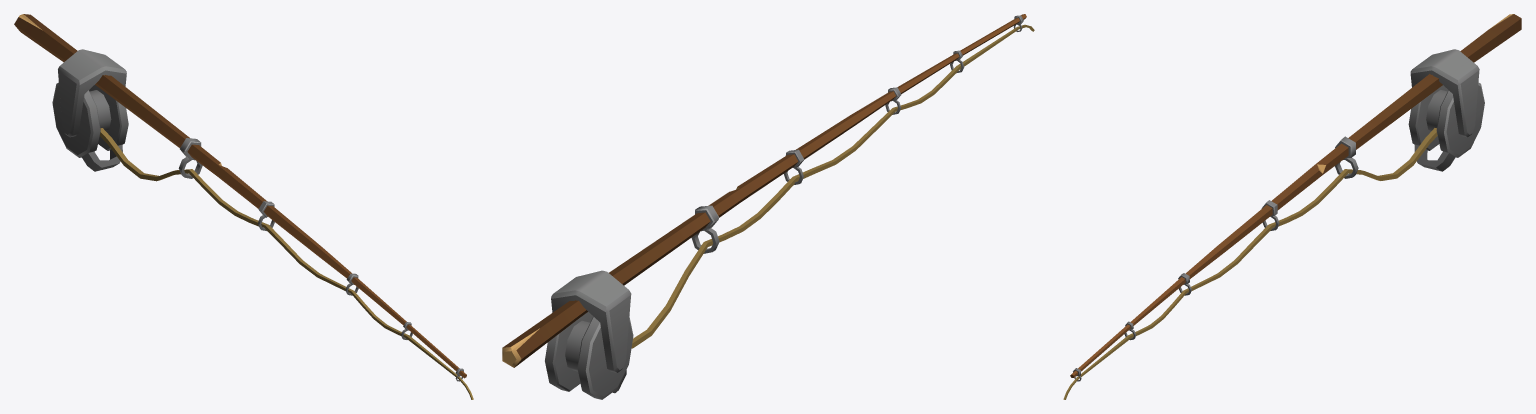
Rendered from FishingRod_A.glb.
The picture shows the model from 3 angles, left to right: view 1: azimuth 30°, elevation 25°; view 2: azimuth 150°, elevation 25°; view 3: azimuth 330°, elevation 25°; orthographic projection. The views are drawn at different scales.
Parts seen in each view (by area): view 1: FishingRod_A; view 2: FishingRod_A; view 3: FishingRod_A.
Boxes of the visible parts, x1,y1,x2,y2 form: FishingRod_A: [14, 14, 473, 399]; FishingRod_A: [502, 14, 1034, 399]; FishingRod_A: [1063, 14, 1521, 399].
Size of the model in its own units: 0.1858 by 0.3493 by 2.78.
2 materials, 2 textured.
